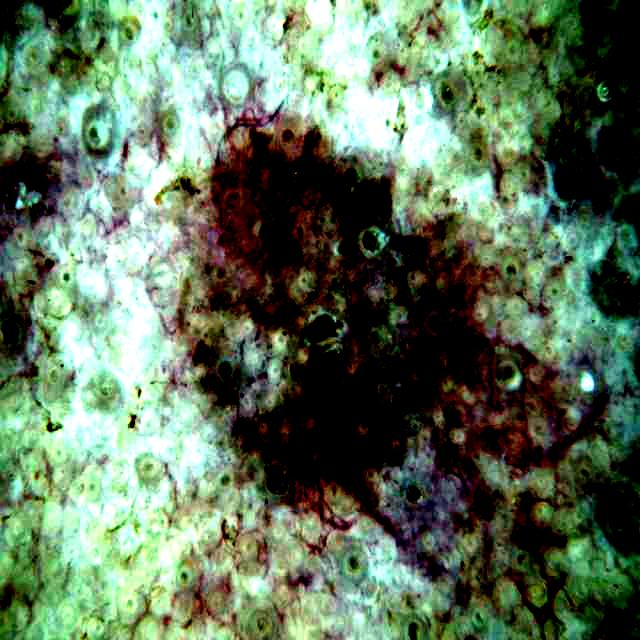BCC: (177, 111, 481, 543)
